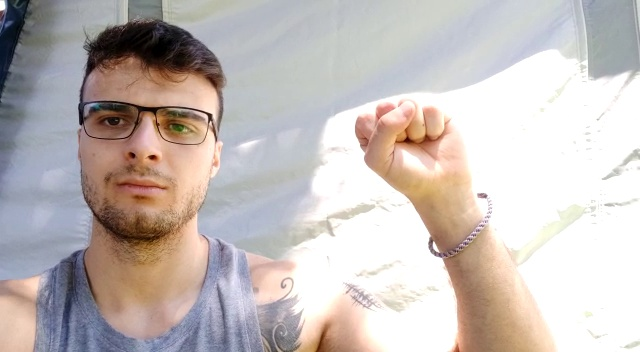Fist: (354, 96, 481, 211)
